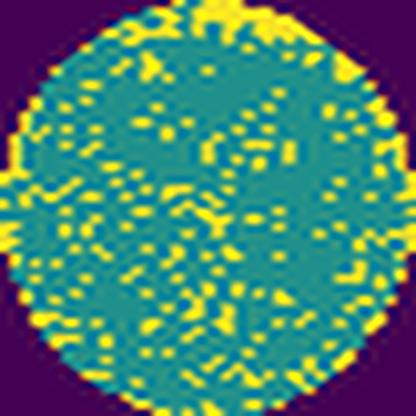Edge-Loc: (194, 0, 326, 51), (112, 0, 184, 43)
